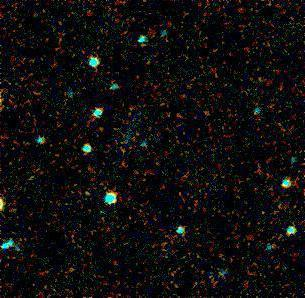star: (72, 179, 102, 209)
